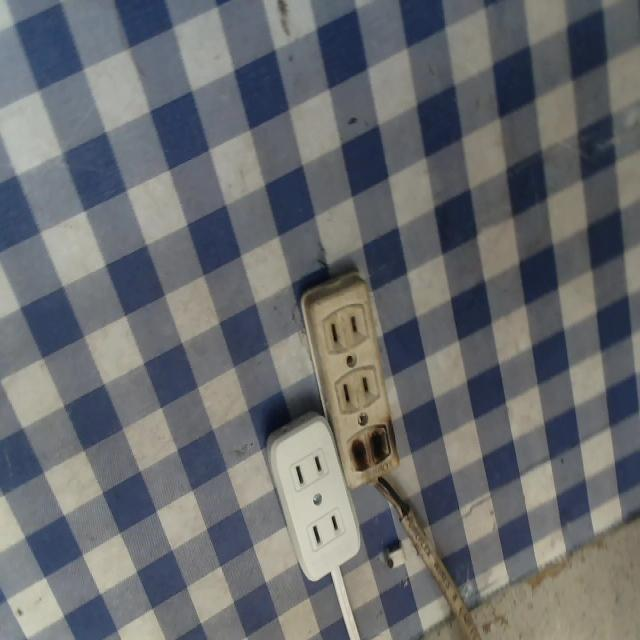-: (344, 418, 404, 482)
